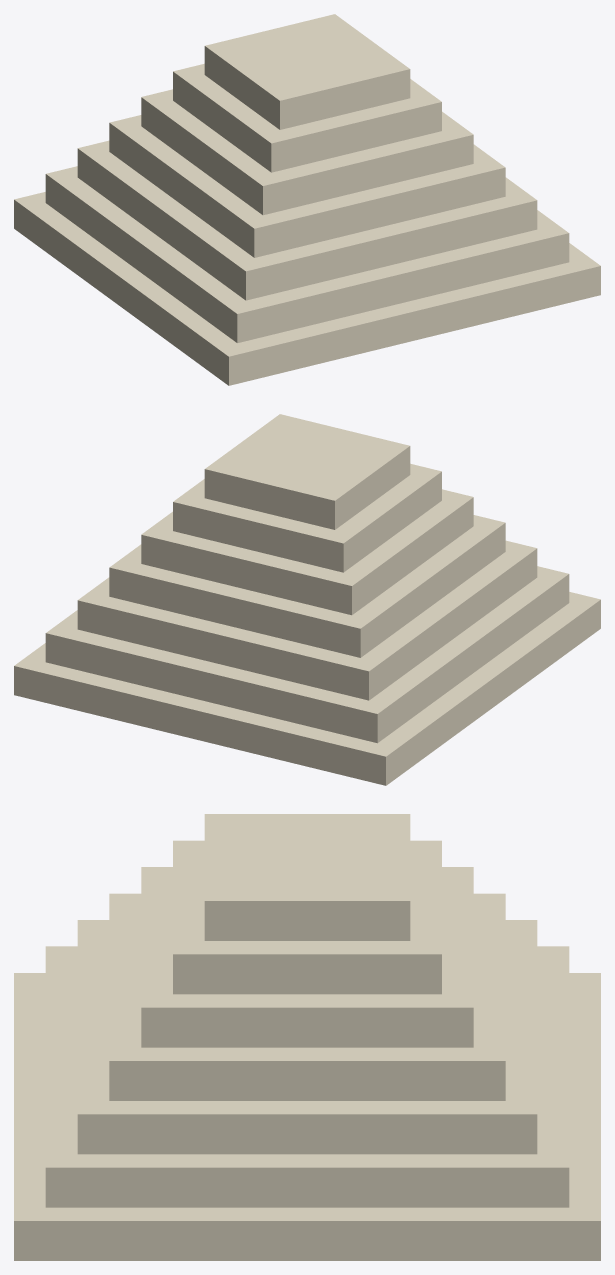
The model's file is place-edzna-five-story-building.glb.
3 views of the same model, one above another, from view 1: azimuth 30°, elevation 25°; view 2: azimuth 150°, elevation 25°; view 3: azimuth 270°, elevation 25° (orthographic). The views are drawn at different scales.
Visible parts, largest first — view 1: place-edzna-five-story-building; view 2: place-edzna-five-story-building; view 3: place-edzna-five-story-building.
Part boxes in pixels (bbox=[...]): place-edzna-five-story-building: bbox=[14, 14, 600, 385]; place-edzna-five-story-building: bbox=[14, 414, 600, 785]; place-edzna-five-story-building: bbox=[14, 814, 600, 1260].
Size of the model in its own units: 60 by 31.5 by 60.
